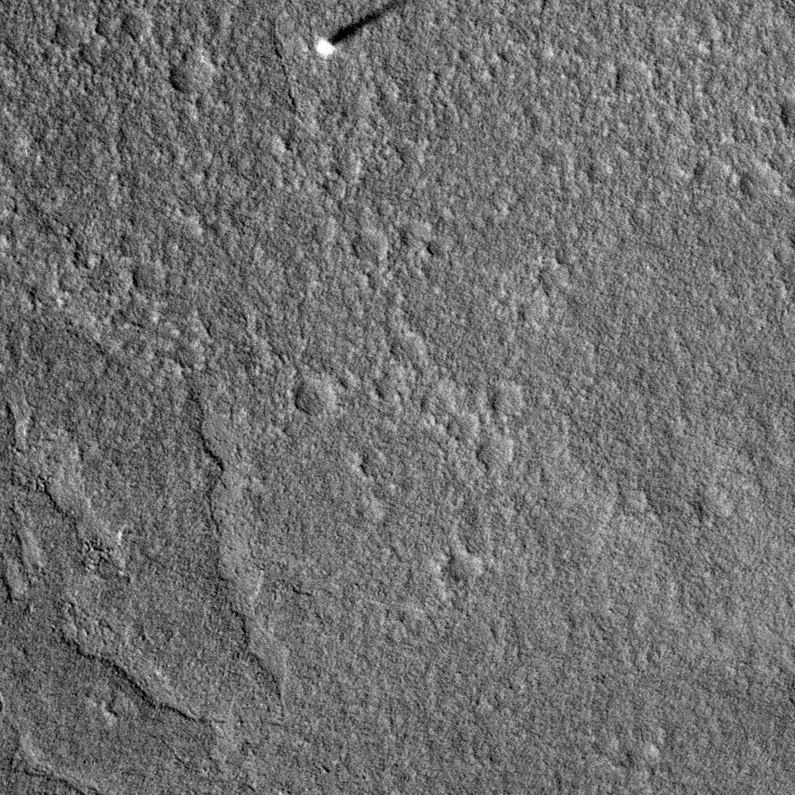dust_devil: (314, 1, 418, 58)
